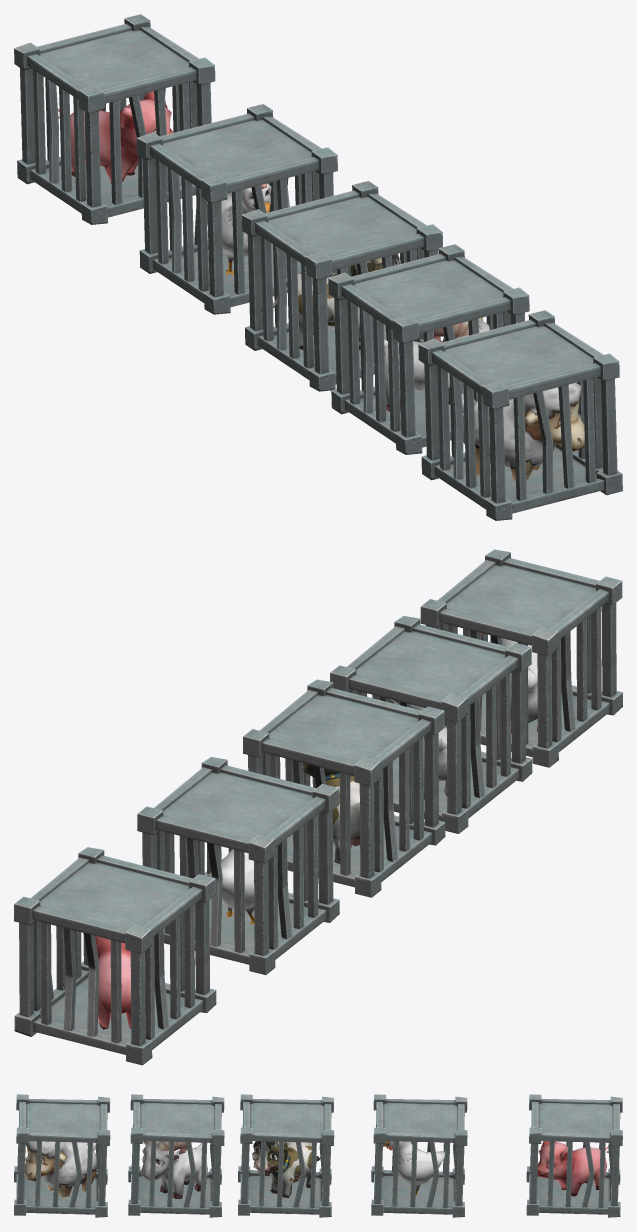
Rendered from Animal.fbx.
3 renders of one model, top to bottom at view 1: azimuth 30°, elevation 25°; view 2: azimuth 150°, elevation 25°; view 3: azimuth 270°, elevation 25°, orthographic. The views are drawn at different scales.
Parts seen in each view (by area): view 1: Pet_3, Pet_0, Pet_2, Pet_1, Pet_4, sheep_sheep_mat_0, pig_pig_mat_0, chiken_chiken_mat_0, goat_goat_mat_0, cow_cow_mat_0; view 2: Pet_0, Pet_2, Pet_4, Pet_3, Pet_1, pig_pig_mat_0, cow_cow_mat_0, chiken_chiken_mat_0, sheep_sheep_mat_0, goat_goat_mat_0; view 3: Pet_2, Pet_4, Pet_0, Pet_1, Pet_3, sheep_sheep_mat_0, goat_goat_mat_0, pig_pig_mat_0, cow_cow_mat_0, chiken_chiken_mat_0.
Part boxes in pixels (x1,y1,x2,y2): Pet_3: (418,310,622,520); Pet_0: (14,14,215,224); Pet_2: (136,104,337,314); Pet_1: (328,244,529,454); Pet_4: (241,181,442,391); sheep_sheep_mat_0: (461,382,584,480); pig_pig_mat_0: (58,91,173,183); chiken_chiken_mat_0: (206,183,271,275); goat_goat_mat_0: (384,317,489,411); cow_cow_mat_0: (261,254,399,350); Pet_0: (14,847,216,1065); Pet_2: (137,757,339,975); Pet_4: (243,679,445,897); Pet_3: (420,549,622,767); Pet_1: (330,616,532,833); pig_pig_mat_0: (83,933,131,1029); cow_cow_mat_0: (303,763,359,863); chiken_chiken_mat_0: (207,849,254,924); sheep_sheep_mat_0: (480,633,537,733); goat_goat_mat_0: (390,699,447,799); Pet_2: (371,1094,467,1217); Pet_4: (238,1094,334,1217); Pet_0: (526,1094,622,1217); Pet_1: (128,1094,224,1217); Pet_3: (14,1094,110,1217); sheep_sheep_mat_0: (24,1141,97,1197); goat_goat_mat_0: (140,1141,207,1198); pig_pig_mat_0: (537,1141,608,1196); cow_cow_mat_0: (252,1141,320,1197); chiken_chiken_mat_0: (383,1141,444,1195).
Bounding box in the file's own units: 97.15 × 97.61 × 628.
Materials: 1 (1 with a texture image).
